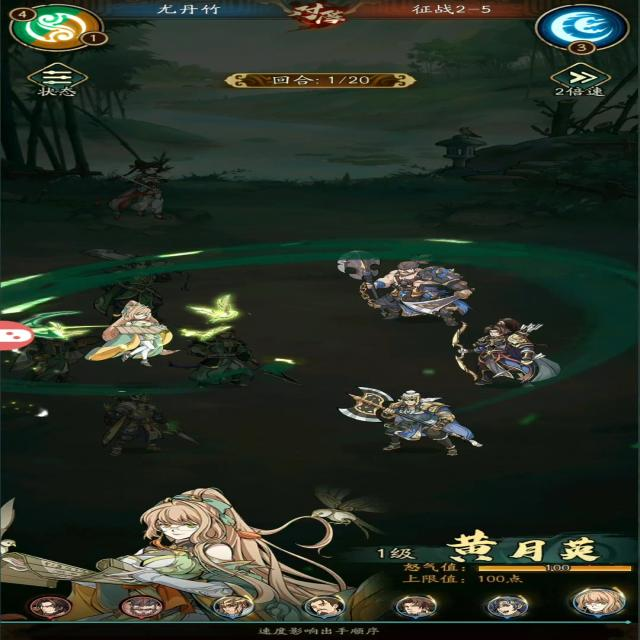hint-guide: (235, 619, 385, 640)
operation-fightspeed: (516, 55, 628, 107)
operation-status: (26, 57, 93, 105)
